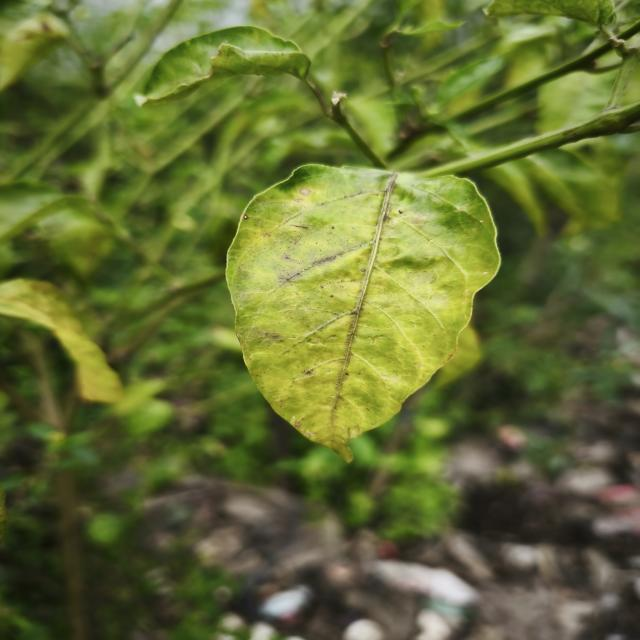Virus Kuning: (224, 162, 502, 463)
